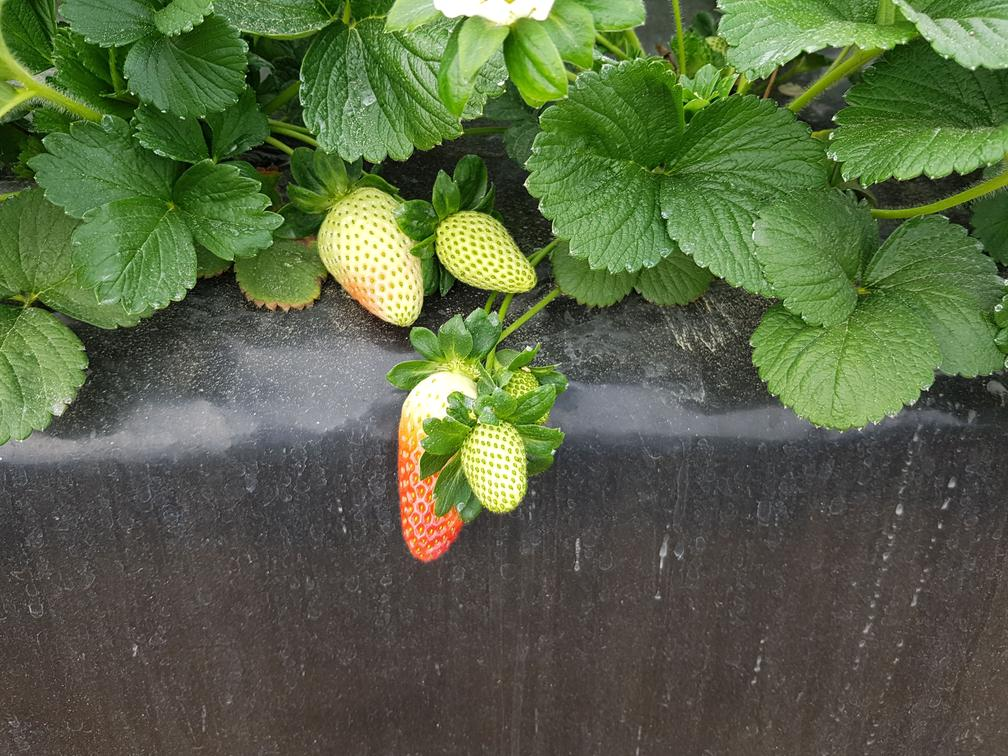Ripe: (396, 400, 469, 565)
Unripe: (314, 181, 421, 328), (428, 211, 543, 292), (465, 422, 533, 515)
